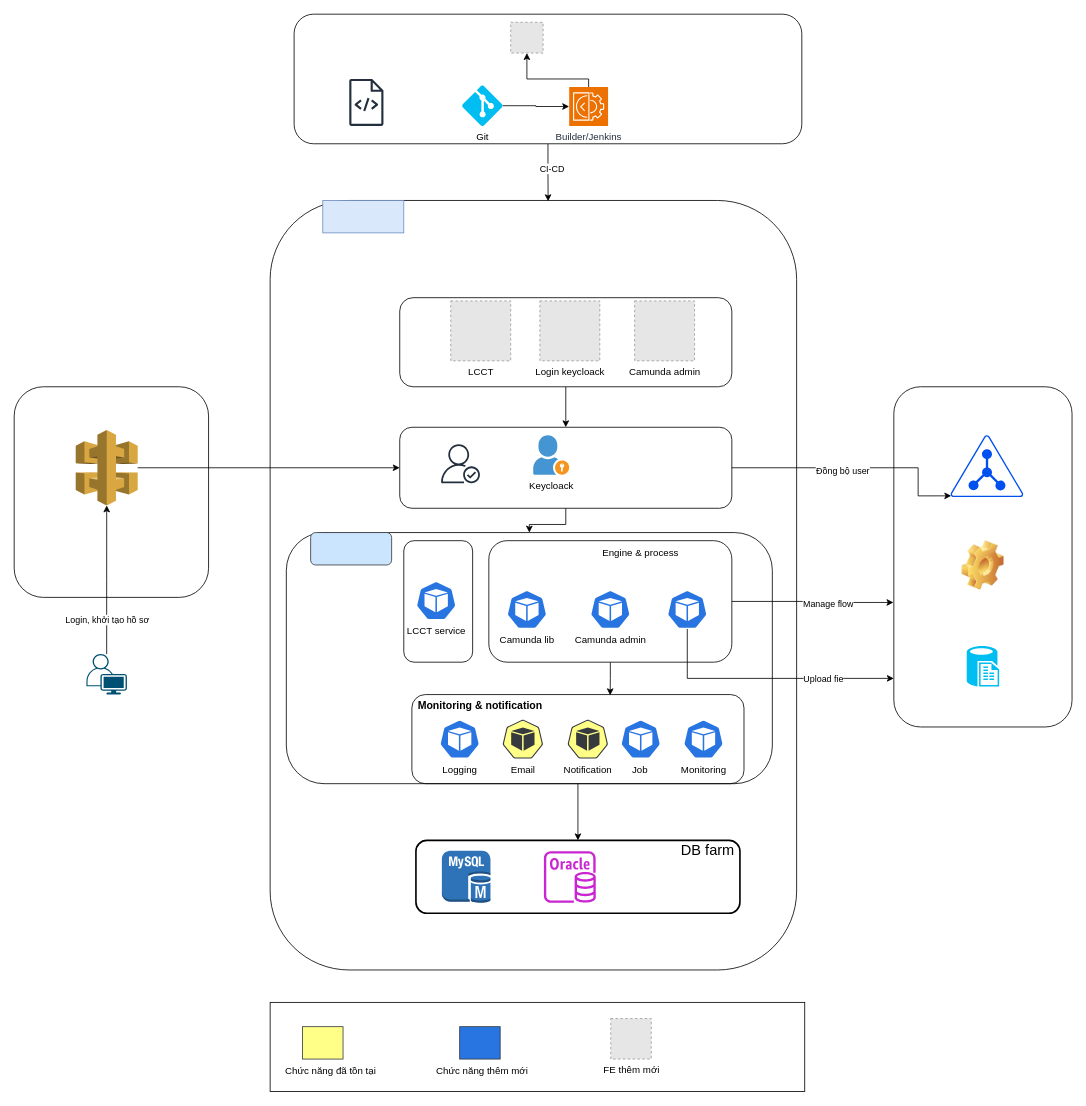
The diagram is 1086 pixels wide and 1106 high, and some of its shapes have lost their labels. Grey dashed boxes stand in for pictures. Each missing label, with the centre of its shape:
API gateway: (106,467)
Authentication: (460,463)
Camunda: (982,565)
ECM: (982,666)
File service: (687,609)
Hệ thống LCCT: (351,548)
Jhipster: (366,102)
LCCT system: (363,216)
